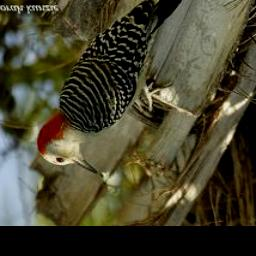Woodpecker: (31, 0, 195, 175)
